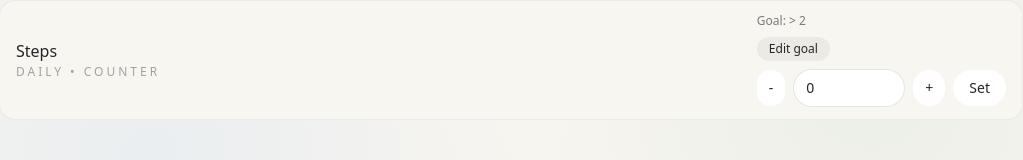
Test: HabitRow counter goals › locks input and shows Unset after Set
This screenshot has width=1023, height=160.
Replace the text in the field named "Steps counter value" with "3" at (849,88), box [793,69,905,107]
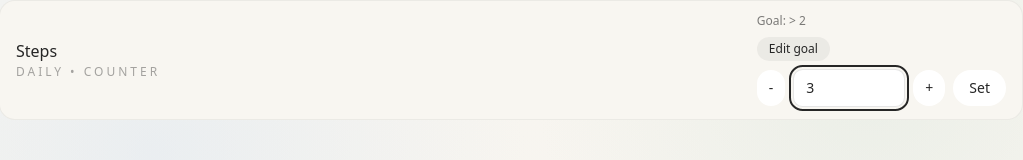
Click the button "Set".
click(980, 88)  # box [953,70,1006,106]
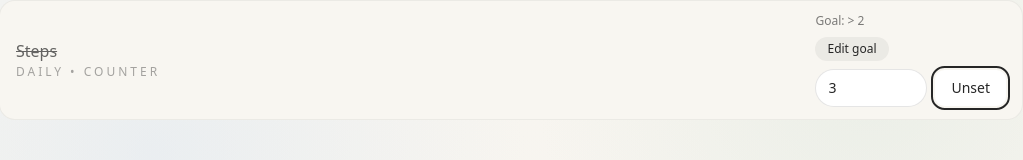
Check: the button "Unset" is shown, box [936,70,1006,106]
Check: the field named "Steps counter value" is disabled, box [816,69,928,107]
